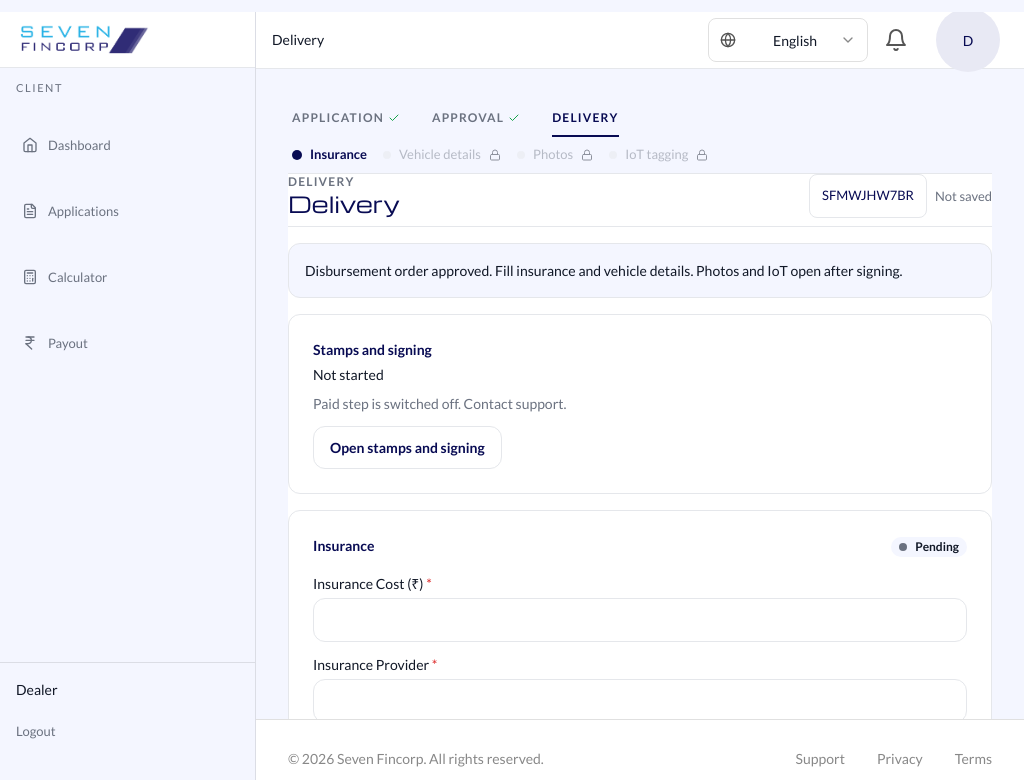
Test: DealerDeliveryPage › shows stamps on a fulfilled file and runs the free quote without ordering
The width and height of the screenshot is (1024, 780).
Expected: the text with test id "delivery-banner" is shown, [288,243,992,298]
Expected: the text with test id "stamps-signing-state" reads "Not started", [313,366,384,383]
Step 1. Click the button with test id "open-stamps-and-signing" → (407, 448), box [313,426,502,469]
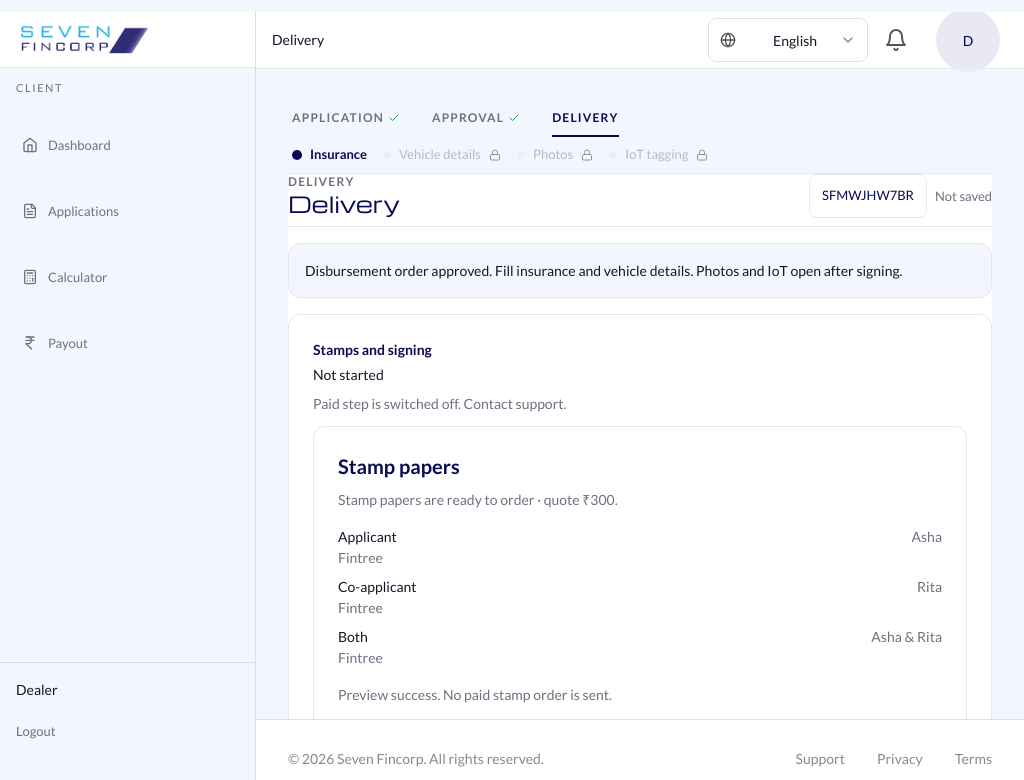
Now the text "Stamp papers are ready to order · quote ₹300." is shown, box [338,491,618,508]
